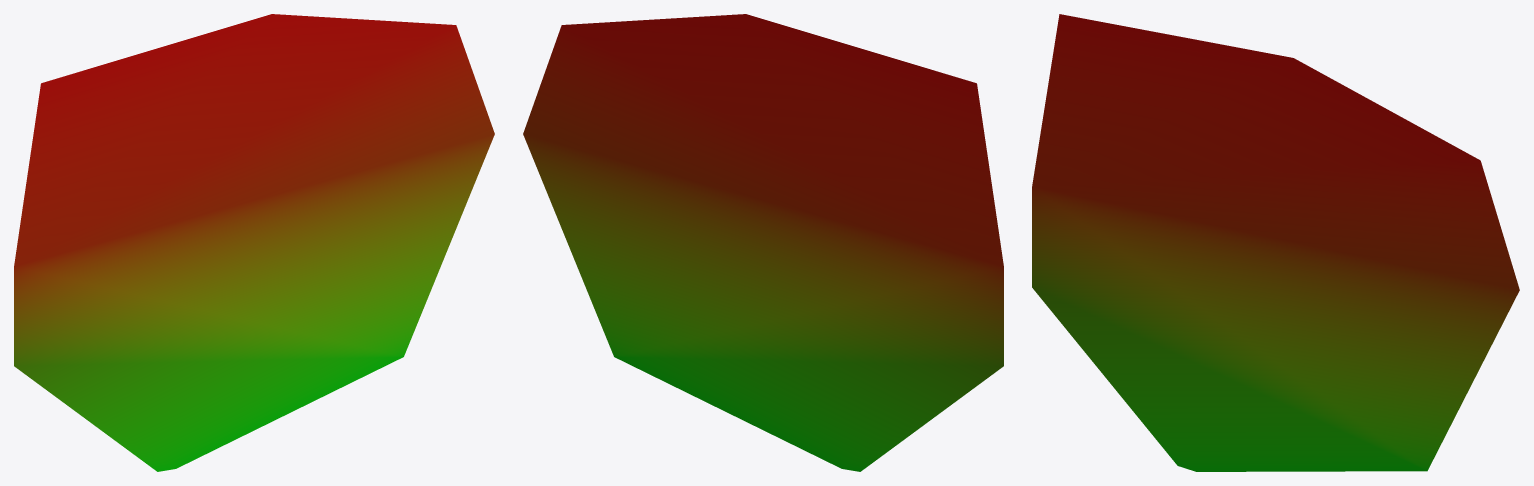
Rendered from Var4_LOD6.fbx.
3 views of the same model, side by side, from view 1: azimuth 30°, elevation 25°; view 2: azimuth 150°, elevation 25°; view 3: azimuth 330°, elevation 25° (orthographic).
Parts seen in each view (by area): view 1: _fteh_Var4_LOD6; view 2: _fteh_Var4_LOD6; view 3: _fteh_Var4_LOD6.
Boxes of the visible parts, left/top/right/bottom form: _fteh_Var4_LOD6: left=14, top=14, right=494, bottom=471; _fteh_Var4_LOD6: left=523, top=14, right=1003, bottom=471; _fteh_Var4_LOD6: left=1032, top=14, right=1519, bottom=471.
Bounding box in the file's own units: 105 × 89.8 × 6.78e-06.
